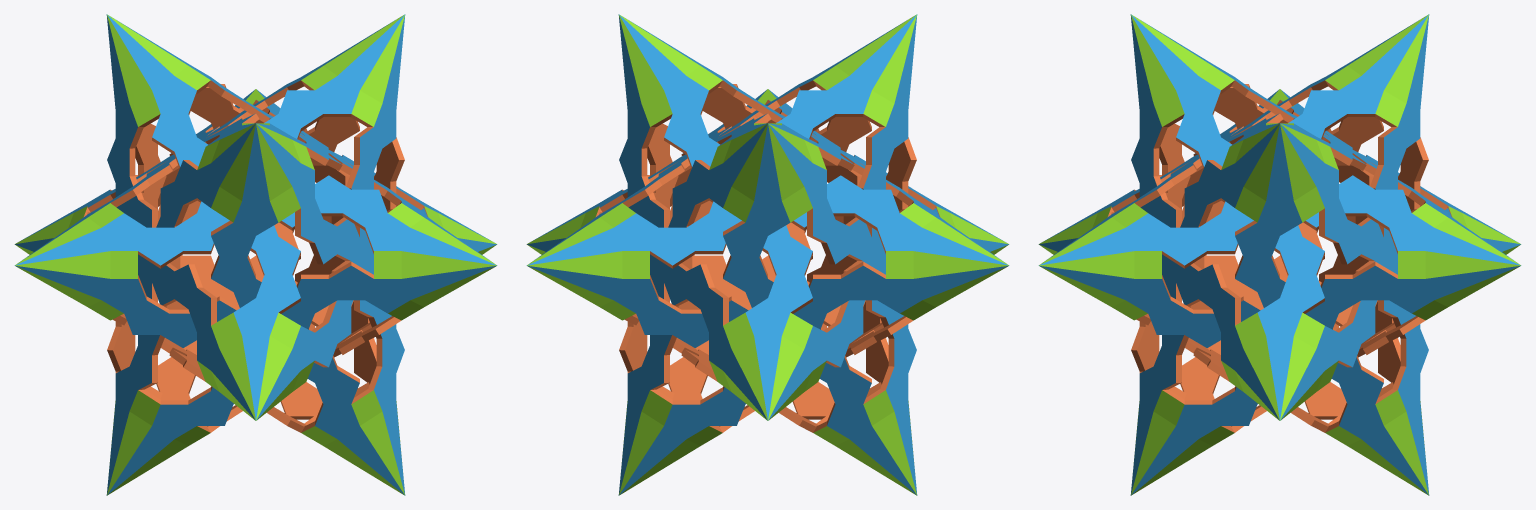
File: StarDodecahedronPolyknot16.glb
3 views of the same model, side by side, from view 1: azimuth 30°, elevation 25°; view 2: azimuth 150°, elevation 25°; view 3: azimuth 270°, elevation 25° (orthographic).
Parts seen in each view (by area): view 1: ESCHER_5.0_STELLATED_DODECAHEDRON_4Augmented_Trunc_Icosa; view 2: ESCHER_5.0_STELLATED_DODECAHEDRON_4Augmented_Trunc_Icosa; view 3: ESCHER_5.0_STELLATED_DODECAHEDRON_4Augmented_Trunc_Icosa.
Part boxes in pixels (box(x1,y1,x2,y2)): ESCHER_5.0_STELLATED_DODECAHEDRON_4Augmented_Trunc_Icosa: box(14, 14, 497, 495); ESCHER_5.0_STELLATED_DODECAHEDRON_4Augmented_Trunc_Icosa: box(526, 14, 1009, 495); ESCHER_5.0_STELLATED_DODECAHEDRON_4Augmented_Trunc_Icosa: box(1038, 14, 1521, 495).
Size of the model in its own units: 124 by 100 by 107.
